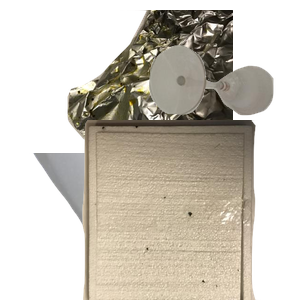glass: (147, 43, 300, 151)
metal: (60, 10, 300, 190)
plastic: (29, 153, 245, 300)
trash: (80, 120, 300, 300)
